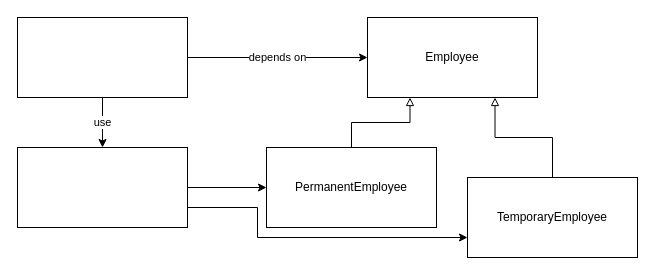
This 655x275 diagram has some shape labels left out. The box of each missing label's shape, as (x1, y1, x2, y2) in pixels:
Client: (16, 16, 188, 98)
Factory method: (16, 146, 188, 228)
